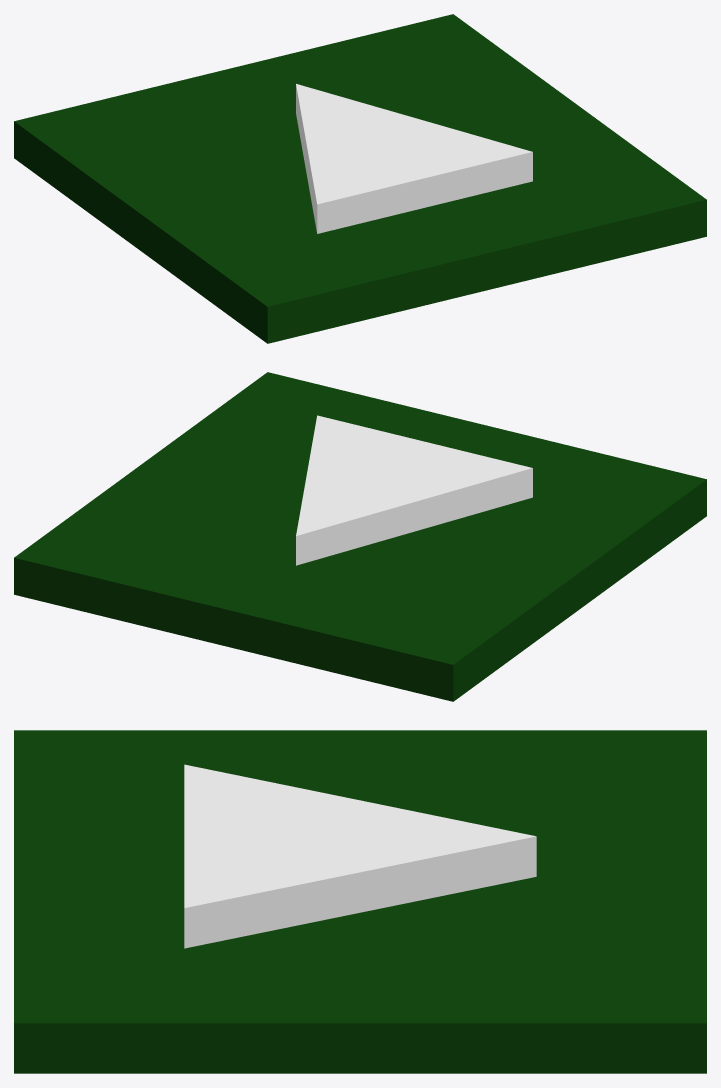
The model's file is play.obj.
3 views of the same model, one above another, from view 1: azimuth 30°, elevation 25°; view 2: azimuth 150°, elevation 25°; view 3: azimuth 270°, elevation 25° (orthographic). The views are drawn at different scales.
Parts seen in each view (by area): view 1: Cube; view 2: Cube; view 3: Cube.
Part boxes in pixels (left/top/right/bottom): Cube: left=14, top=14, right=706, bottom=343; Cube: left=14, top=372, right=706, bottom=701; Cube: left=14, top=730, right=706, bottom=1073.
Bounding box in the file's own units: 2 × 0.2894 × 2.
